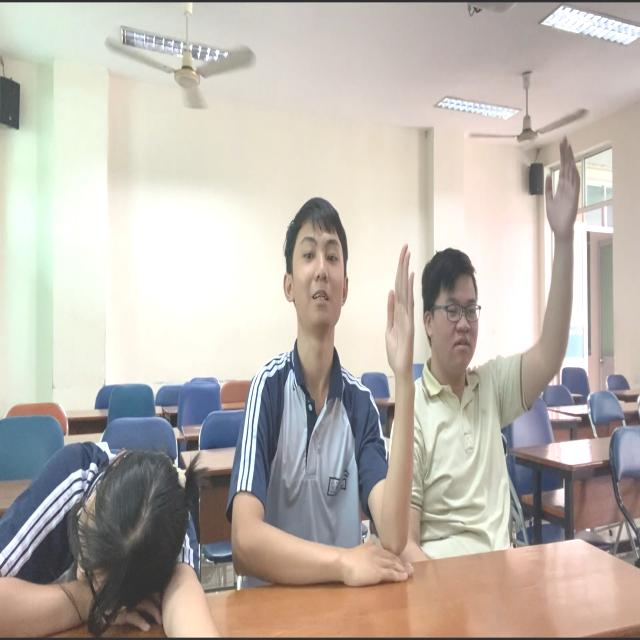raise_hand: (398, 131, 583, 552), (236, 196, 422, 596)
sleep: (1, 438, 221, 640)
